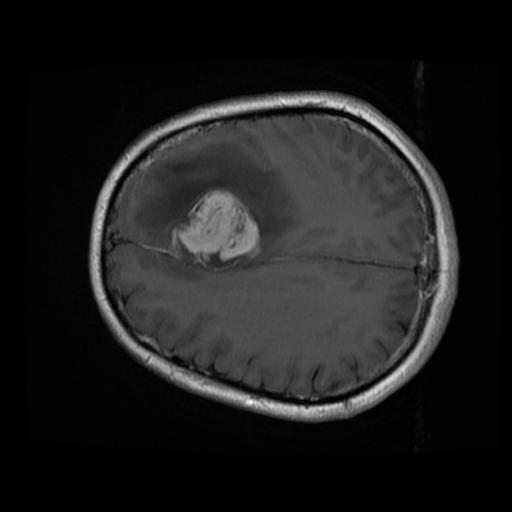meningioma: (175, 186, 261, 267)
